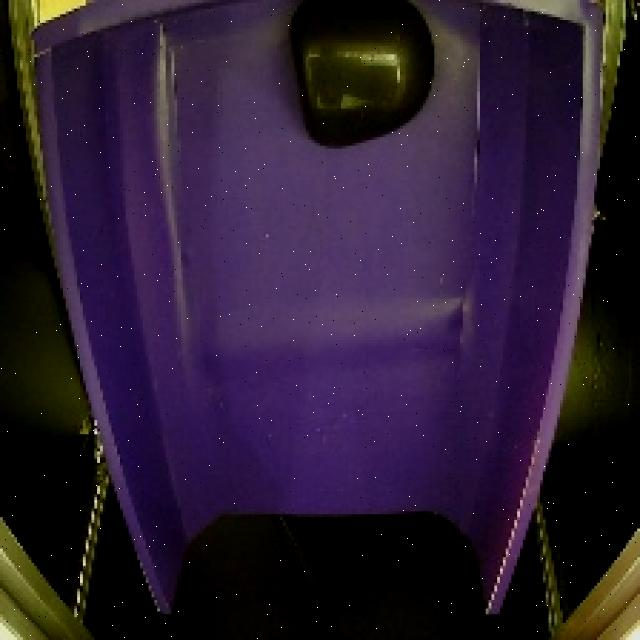cobbles: (280, 0, 442, 158)
